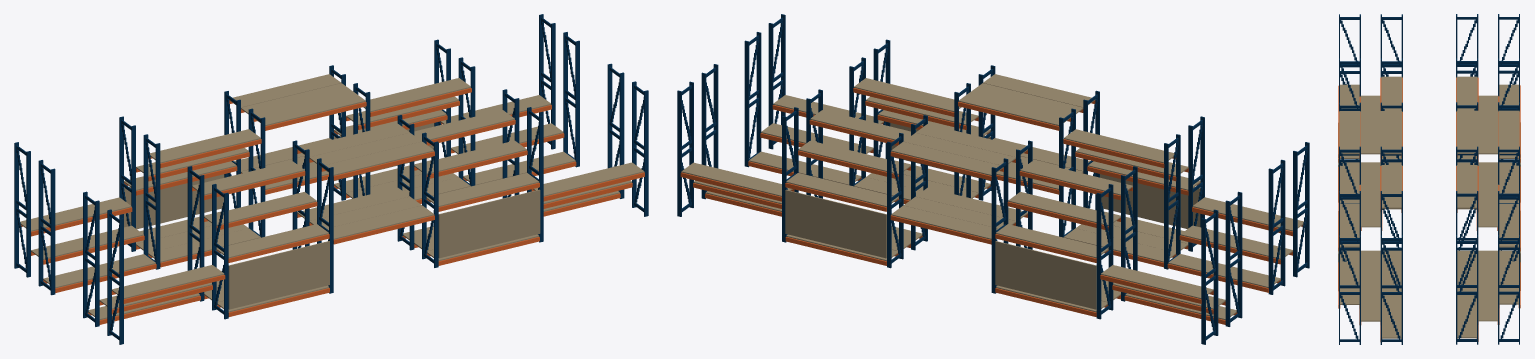
The model's file is chiba.glb.
3 views of the same model, side by side, from view 1: azimuth 30°, elevation 25°; view 2: azimuth 150°, elevation 25°; view 3: azimuth 270°, elevation 25° (orthographic). The views are drawn at different scales.
Parts seen in each view (by area): view 1: wall (×2), wall1, hor12 (×2), hor5 (×2), hor11 (×2), hor23 (×2), hor22 (×2), hor7 (×2), hor21 (×2), hor25 (×2), hor19 (×2), hor24 (×2) (+34 smaller); view 2: wall1 (×2), wall, hor5 (×2), hor12 (×2), hor19 (×2), hor23 (×2), hor22 (×2), hor24 (×2), hor21 (×2), hor25 (×2), hor11 (×2), hor7 (×2) (+35 smaller); view 3: floor8 (×2), hor23 (×2), hor22 (×2), hor12 (×2), hor5 (×2), hor10 (×2), hor21 (×2), hor25 (×2), hor19 (×2), hor11 (×2), vert18 (×2), vert24 (×2) (+29 smaller).
Part boxes in pixels (box(x1,y1,x2,y2)): wall (×2): box(124, 174, 540, 258); wall1: box(228, 241, 329, 309); hor12 (×2): box(192, 78, 471, 200); hor5 (×2): box(148, 110, 515, 168); hor11 (×2): box(20, 162, 644, 236); hor23 (×2): box(229, 74, 434, 180); hor22 (×2): box(253, 92, 409, 162); hor7 (×2): box(124, 161, 539, 211); hor21 (×2): box(136, 140, 527, 181); hor25 (×2): box(204, 96, 459, 230); hor19 (×2): box(111, 95, 551, 303); hor24 (×2): box(216, 110, 447, 262); wall1 (×2): box(785, 174, 1200, 258); wall: box(995, 241, 1096, 309); hor5 (×2): box(853, 78, 1132, 200); hor12 (×2): box(809, 110, 1176, 167); hor19 (×2): box(680, 162, 1303, 236); hor23 (×2): box(890, 74, 1095, 180); hor22 (×2): box(915, 92, 1070, 162); hor24 (×2): box(785, 161, 1200, 211); hor21 (×2): box(865, 96, 1120, 230); hor25 (×2): box(798, 140, 1188, 181); hor11 (×2): box(772, 95, 1213, 303); hor7 (×2): box(877, 110, 1108, 262); floor8 (×2): box(1360, 110, 1498, 154); hor23 (×2): box(1338, 110, 1520, 157); hor22 (×2): box(1380, 110, 1478, 157); hor12 (×2): box(1380, 76, 1478, 211); hor5 (×2): box(1380, 76, 1478, 211); hor10 (×2): box(1338, 165, 1520, 204); hor21 (×2): box(1359, 95, 1499, 230); hor25 (×2): box(1359, 95, 1499, 230); hor19 (×2): box(1338, 84, 1520, 308); hor11 (×2): box(1338, 84, 1520, 308); vert18 (×2): box(1380, 14, 1478, 290); vert24 (×2): box(1380, 14, 1478, 290).
Bounding box in the file's own units: 20.25 × 4.58 × 7.02.
